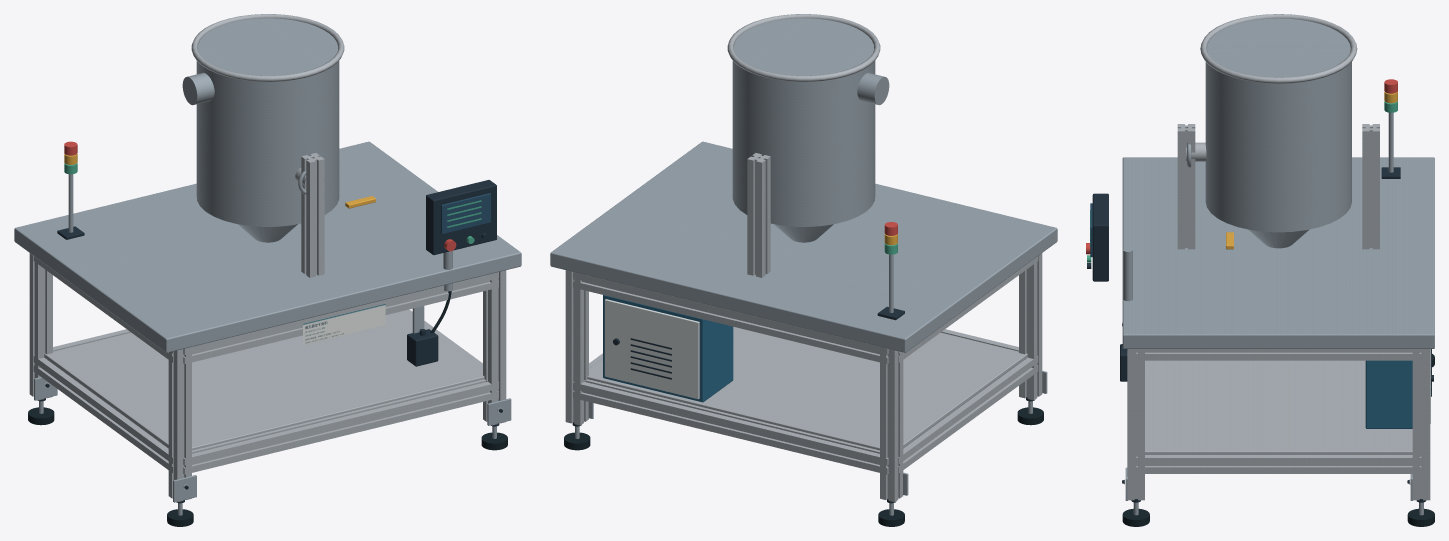
Rendered from conical-vacuum-dryer.glb.
3 views of the same model, side by side, from view 1: azimuth 30°, elevation 25°; view 2: azimuth 150°, elevation 25°; view 3: azimuth 270°, elevation 25° (orthographic). The views are drawn at different scales.
Visible parts, largest first — view 1: ClosedMachineBed_40, LowerShelf_41, ProcessShell_73, SlottedExtrusion_34, SlottedExtrusion_35, SlottedExtrusion_11, SlottedExtrusion_36, SlottedExtrusion_27, SlottedExtrusion_72, ConsoleBack_52, SlottedExtrusion_3, ServiceFlange_75 (+6 smaller); view 2: ClosedMachineBed_40, ProcessShell_73, LowerShelf_41, BackDoor_43, SlottedExtrusion_32, SlottedExtrusion_33, SlottedExtrusion_3, Cabinet_42, SlottedExtrusion_19, SlottedExtrusion_36, SlottedExtrusion_71, SlottedExtrusion_11 (+4 smaller); view 3: ClosedMachineBed_40, ProcessShell_73, LowerShelf_41, SlottedExtrusion_38, SlottedExtrusion_39, Cabinet_42, SlottedExtrusion_19, SlottedExtrusion_27, SlottedExtrusion_72, SlottedExtrusion_71, ServiceFlange_75, ConsoleBack_52 (+4 smaller).
Boxes of the visible parts, left/top/right/bottom form: ClosedMachineBed_40: left=14, top=141, right=521, bottom=352; LowerShelf_41: left=44, top=311, right=484, bottom=450; ProcessShell_73: left=196, top=18, right=339, bottom=226; SlottedExtrusion_34: left=183, top=379, right=498, bottom=474; SlottedExtrusion_35: left=183, top=272, right=498, bottom=363; SlottedExtrusion_11: left=168, top=347, right=191, bottom=502; SlottedExtrusion_36: left=33, top=356, right=173, bottom=473; SlottedExtrusion_27: left=483, top=270, right=506, bottom=425; SlottedExtrusion_72: left=301, top=153, right=324, bottom=277; ConsoleBack_52: left=426, top=180, right=496, bottom=254; SlottedExtrusion_3: left=29, top=253, right=52, bottom=400; ServiceFlange_75: left=191, top=14, right=344, bottom=81; ClosedMachineBed_40: left=550, top=141, right=1057, bottom=352; ProcessShell_73: left=732, top=18, right=875, bottom=226; LowerShelf_41: left=587, top=326, right=1027, bottom=450; BackDoor_43: left=604, top=299, right=699, bottom=399; SlottedExtrusion_32: left=573, top=379, right=888, bottom=474; SlottedExtrusion_33: left=573, top=272, right=888, bottom=363; SlottedExtrusion_3: left=880, top=347, right=903, bottom=502; Cabinet_42: left=603, top=295, right=733, bottom=402; SlottedExtrusion_19: left=565, top=270, right=588, bottom=425; SlottedExtrusion_36: left=898, top=356, right=1038, bottom=473; SlottedExtrusion_71: left=747, top=153, right=770, bottom=277; SlottedExtrusion_11: left=1019, top=253, right=1042, bottom=400; ClosedMachineBed_40: left=1122, top=157, right=1434, bottom=348; ProcessShell_73: left=1205, top=18, right=1351, bottom=232; LowerShelf_41: left=1145, top=360, right=1412, bottom=454; SlottedExtrusion_38: left=1136, top=455, right=1421, bottom=473; SlottedExtrusion_39: left=1136, top=349, right=1421, bottom=360; Cabinet_42: left=1365, top=360, right=1412, bottom=428; SlottedExtrusion_19: left=1412, top=349, right=1430, bottom=500; SlottedExtrusion_27: left=1127, top=349, right=1144, bottom=500; SlottedExtrusion_72: left=1177, top=124, right=1195, bottom=249; SlottedExtrusion_71: left=1362, top=124, right=1379, bottom=249; ServiceFlange_75: left=1200, top=14, right=1357, bottom=83; ConsoleBack_52: left=1092, top=193, right=1108, bottom=281.
Bounding box in the file's own units: 1.55 × 1.61 × 1.29.
11 materials, 3 textured.
